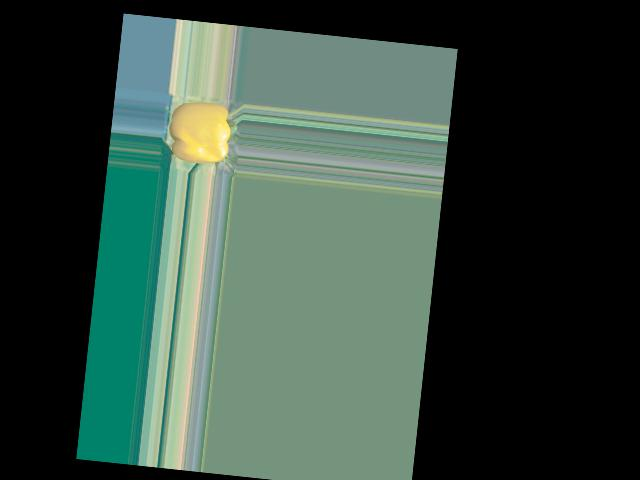bell_pepper: (164, 95, 239, 171)
